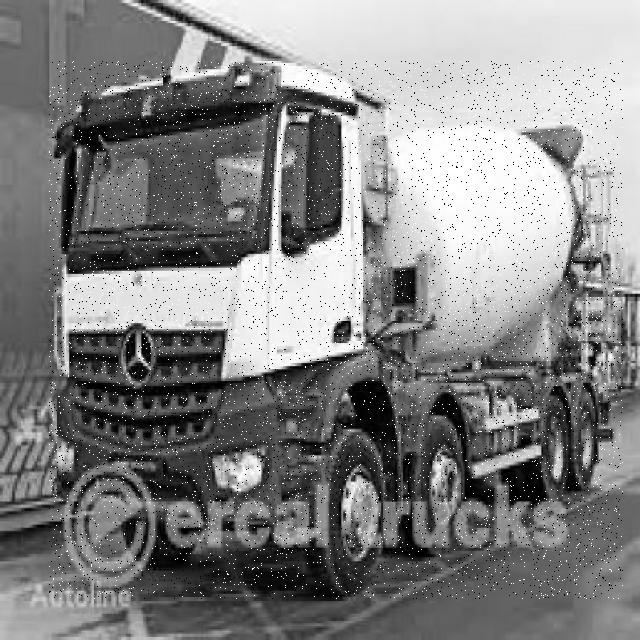Concrete Mixer: (49, 61, 623, 599)
